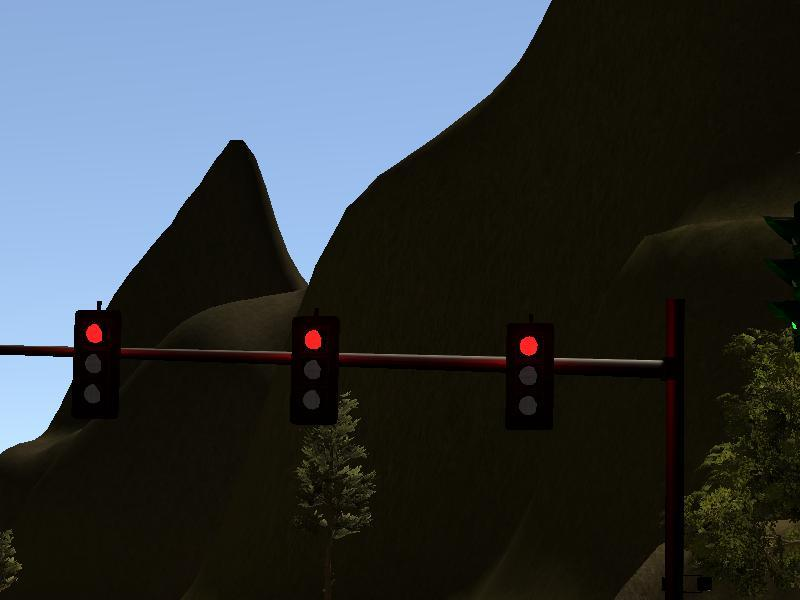Red: (292, 318, 337, 423), (507, 325, 551, 430), (74, 310, 117, 415)
